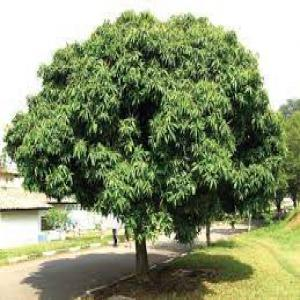Tree: (2, 4, 286, 270)
